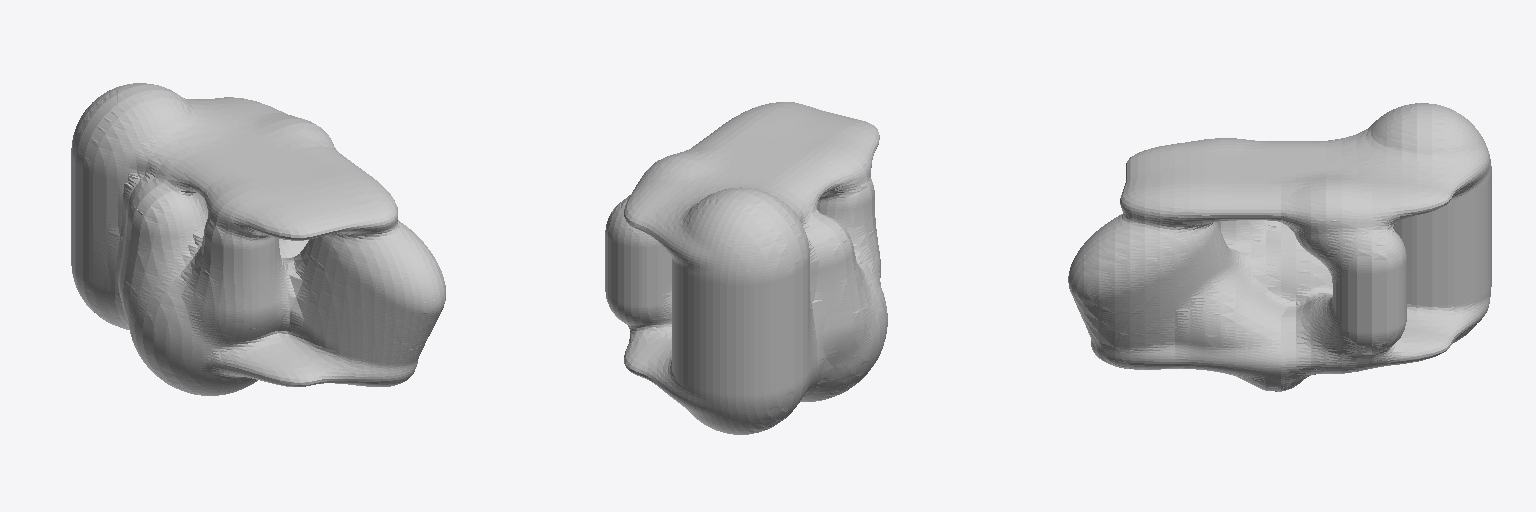
The model's file is cave.obj.
The picture shows the model from 3 angles: view 1: azimuth 30°, elevation 25°; view 2: azimuth 150°, elevation 25°; view 3: azimuth 270°, elevation 25°; orthographic projection.
Visible parts, largest first — view 1: CAVE; view 2: CAVE; view 3: CAVE.
Boxes of the visible parts, <box> form: CAVE: <box>71,83,445,395</box>; CAVE: <box>605,102,887,434</box>; CAVE: <box>1068,103,1491,391</box>.
Bounding box in the file's own units: 8.06 × 8.54 × 13.12.